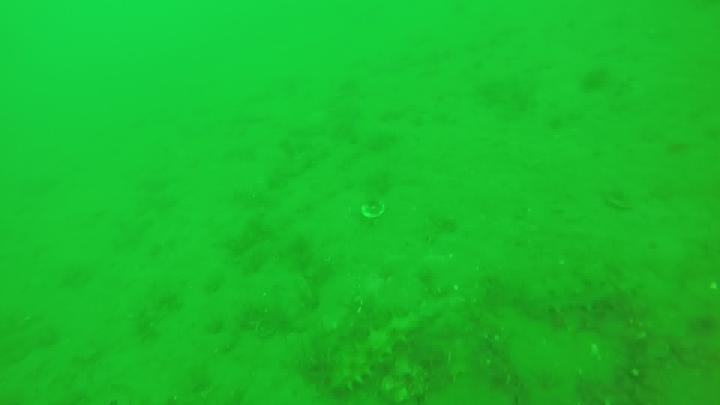holothurian: (324, 298, 451, 393), (525, 280, 648, 314)
scallop: (362, 198, 386, 219)
